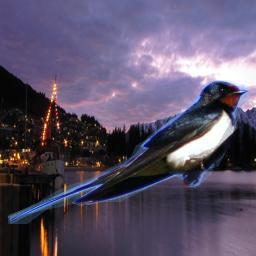Swallow: (6, 80, 249, 224)
